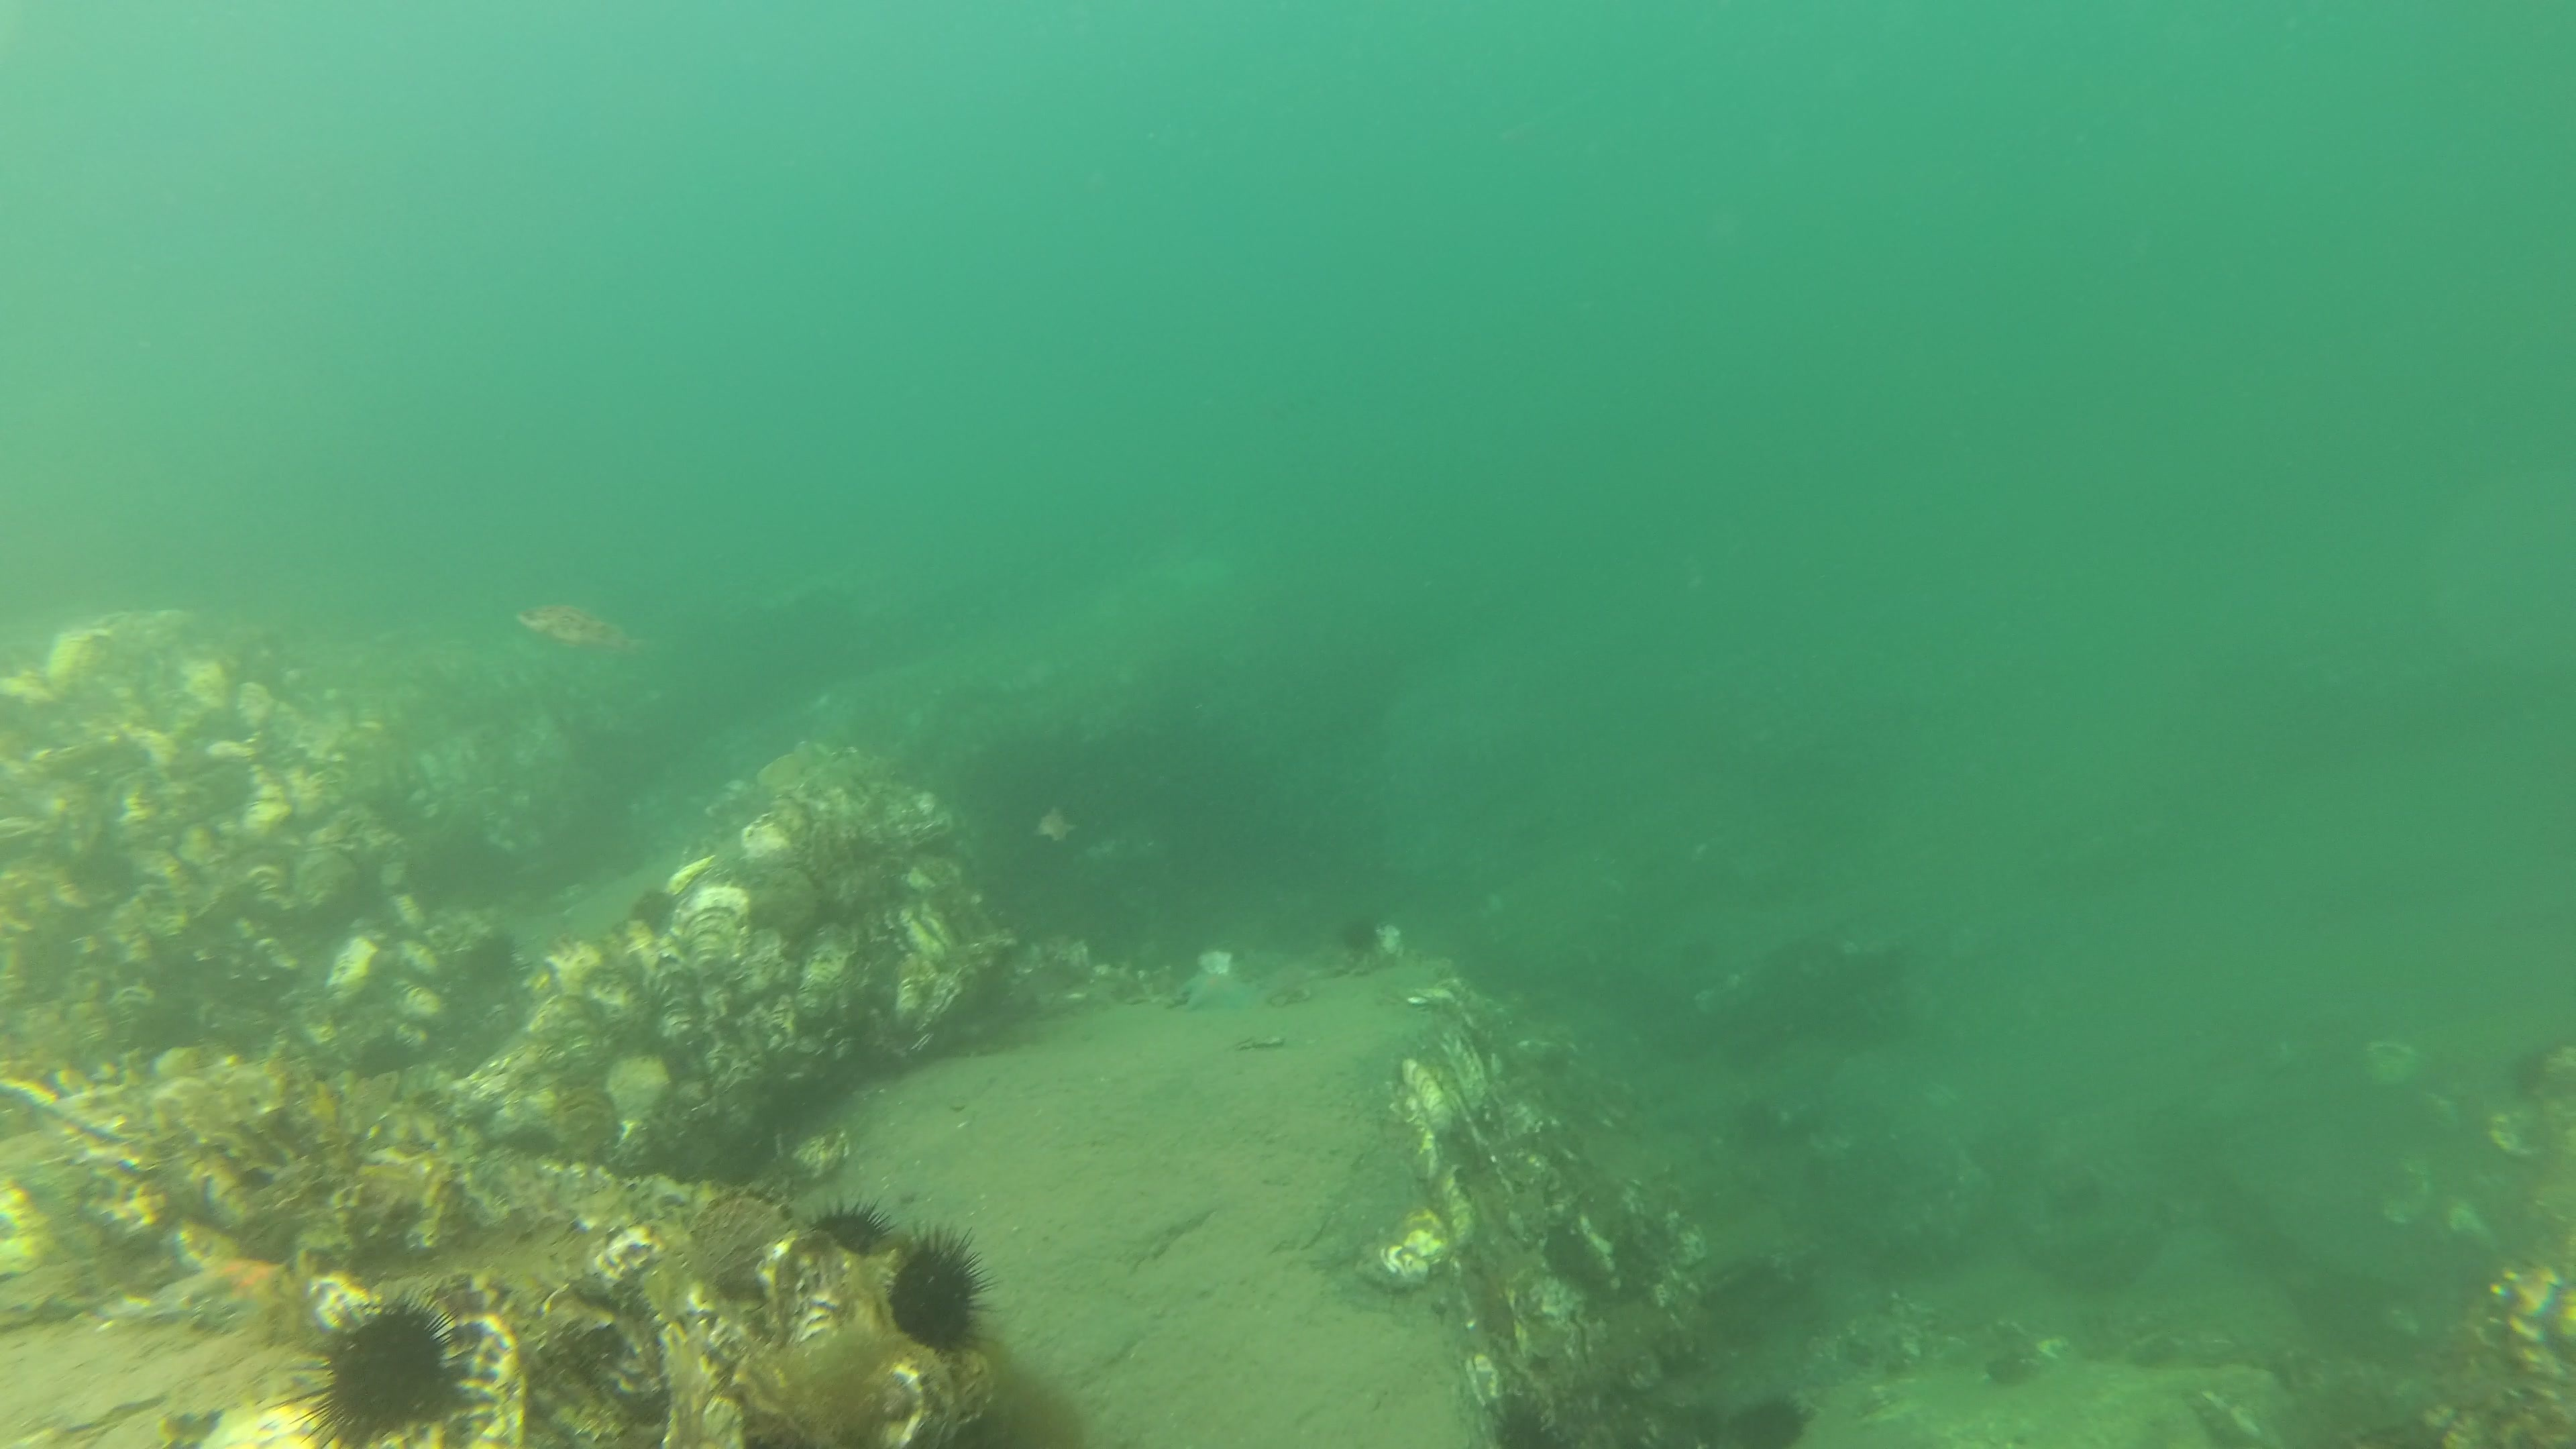echinus: (294, 1292, 483, 1447), (879, 1226, 998, 1355), (798, 1194, 899, 1269)
starfish: (159, 1254, 299, 1330)
